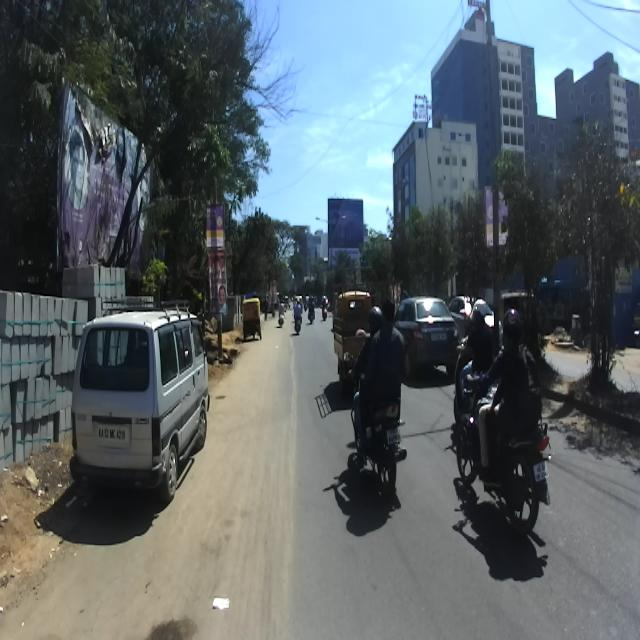car ahead at: (68, 301, 214, 497)
motorcycle ahead at: (454, 376, 552, 528), (346, 374, 414, 490)
